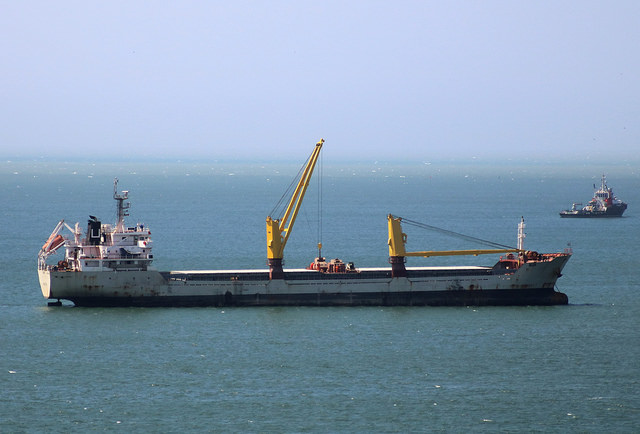bulk carrier: (37, 186, 575, 303)
tug_boat: (566, 178, 630, 220)
